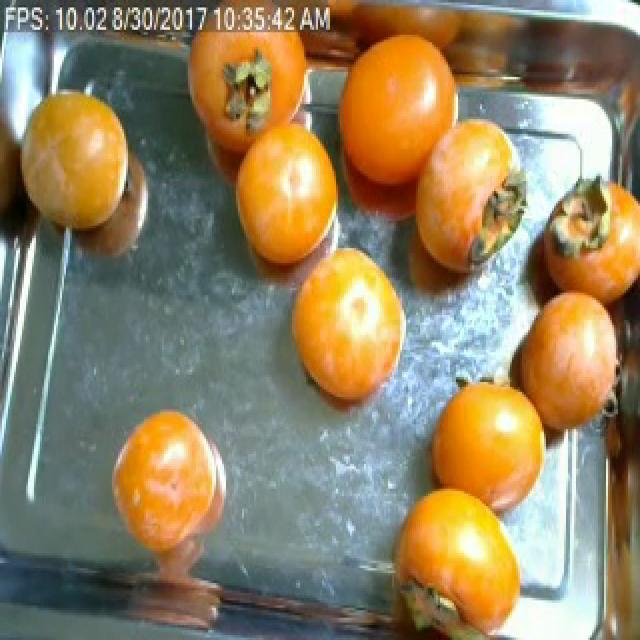Fruit: (268, 223, 414, 442), (376, 474, 538, 640), (496, 275, 632, 469), (100, 397, 242, 578), (10, 67, 146, 255), (414, 362, 560, 531)
